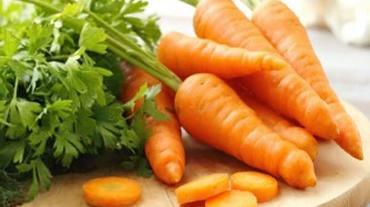carrot: (102, 18, 355, 181), (184, 3, 370, 188)
